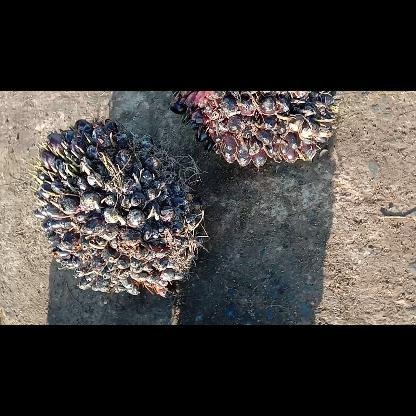TBS mentah: (30, 117, 210, 299), (168, 91, 340, 171)
